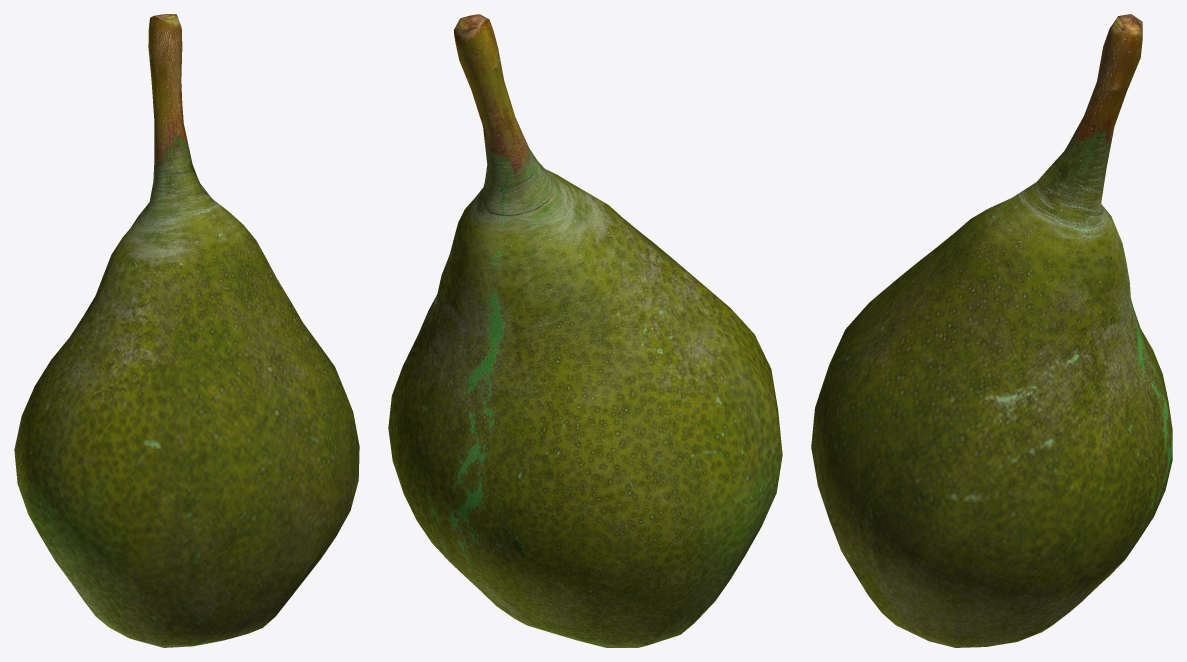
File: GreenFruitPear01.fbx
3 views of the same model, side by side, from view 1: azimuth 30°, elevation 25°; view 2: azimuth 150°, elevation 25°; view 3: azimuth 270°, elevation 25° (orthographic). The views are drawn at different scales.
Parts seen in each view (by area): view 1: Pear01; view 2: Pear01; view 3: Pear01.
Boxes of the visible parts, <box> form: Pear01: <box>14,14,359,647</box>; Pear01: <box>388,14,782,647</box>; Pear01: <box>811,14,1172,647</box>.
Size of the model in its own units: 0.0673 by 0.0629 by 0.1199.
1 material, 1 textured.
